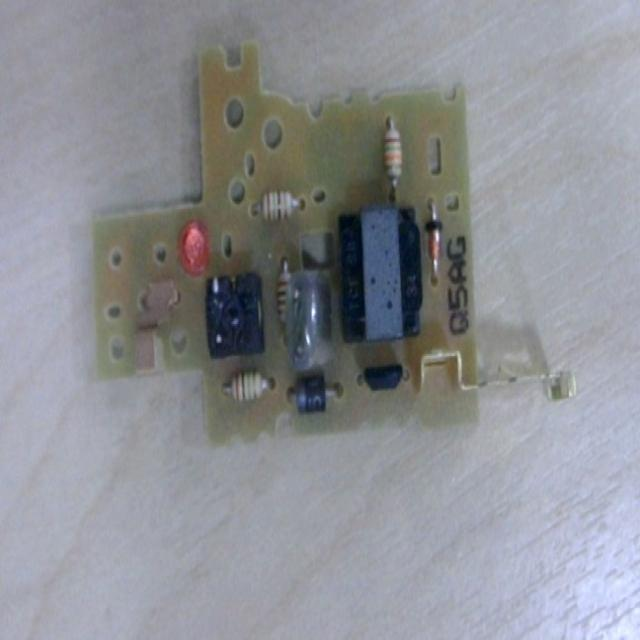019: (205, 274, 265, 360)
223: (288, 264, 326, 368)
DIODE: (284, 374, 342, 414)
LED: (176, 216, 212, 278)
R1: (248, 182, 306, 225)
R2: (276, 252, 296, 330)
R3: (218, 368, 276, 403)
R4: (379, 111, 406, 204)
TCE: (338, 204, 423, 350)
TRANSISTOR: (356, 358, 413, 396)
